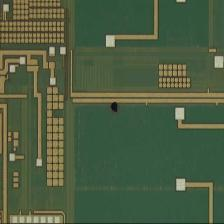PARTICLE: (109, 100, 121, 115)
